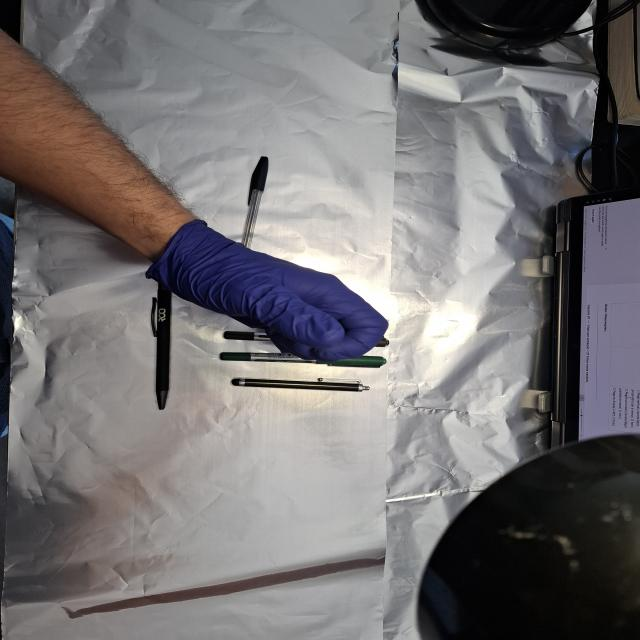glove_on: (146, 219, 390, 364)
